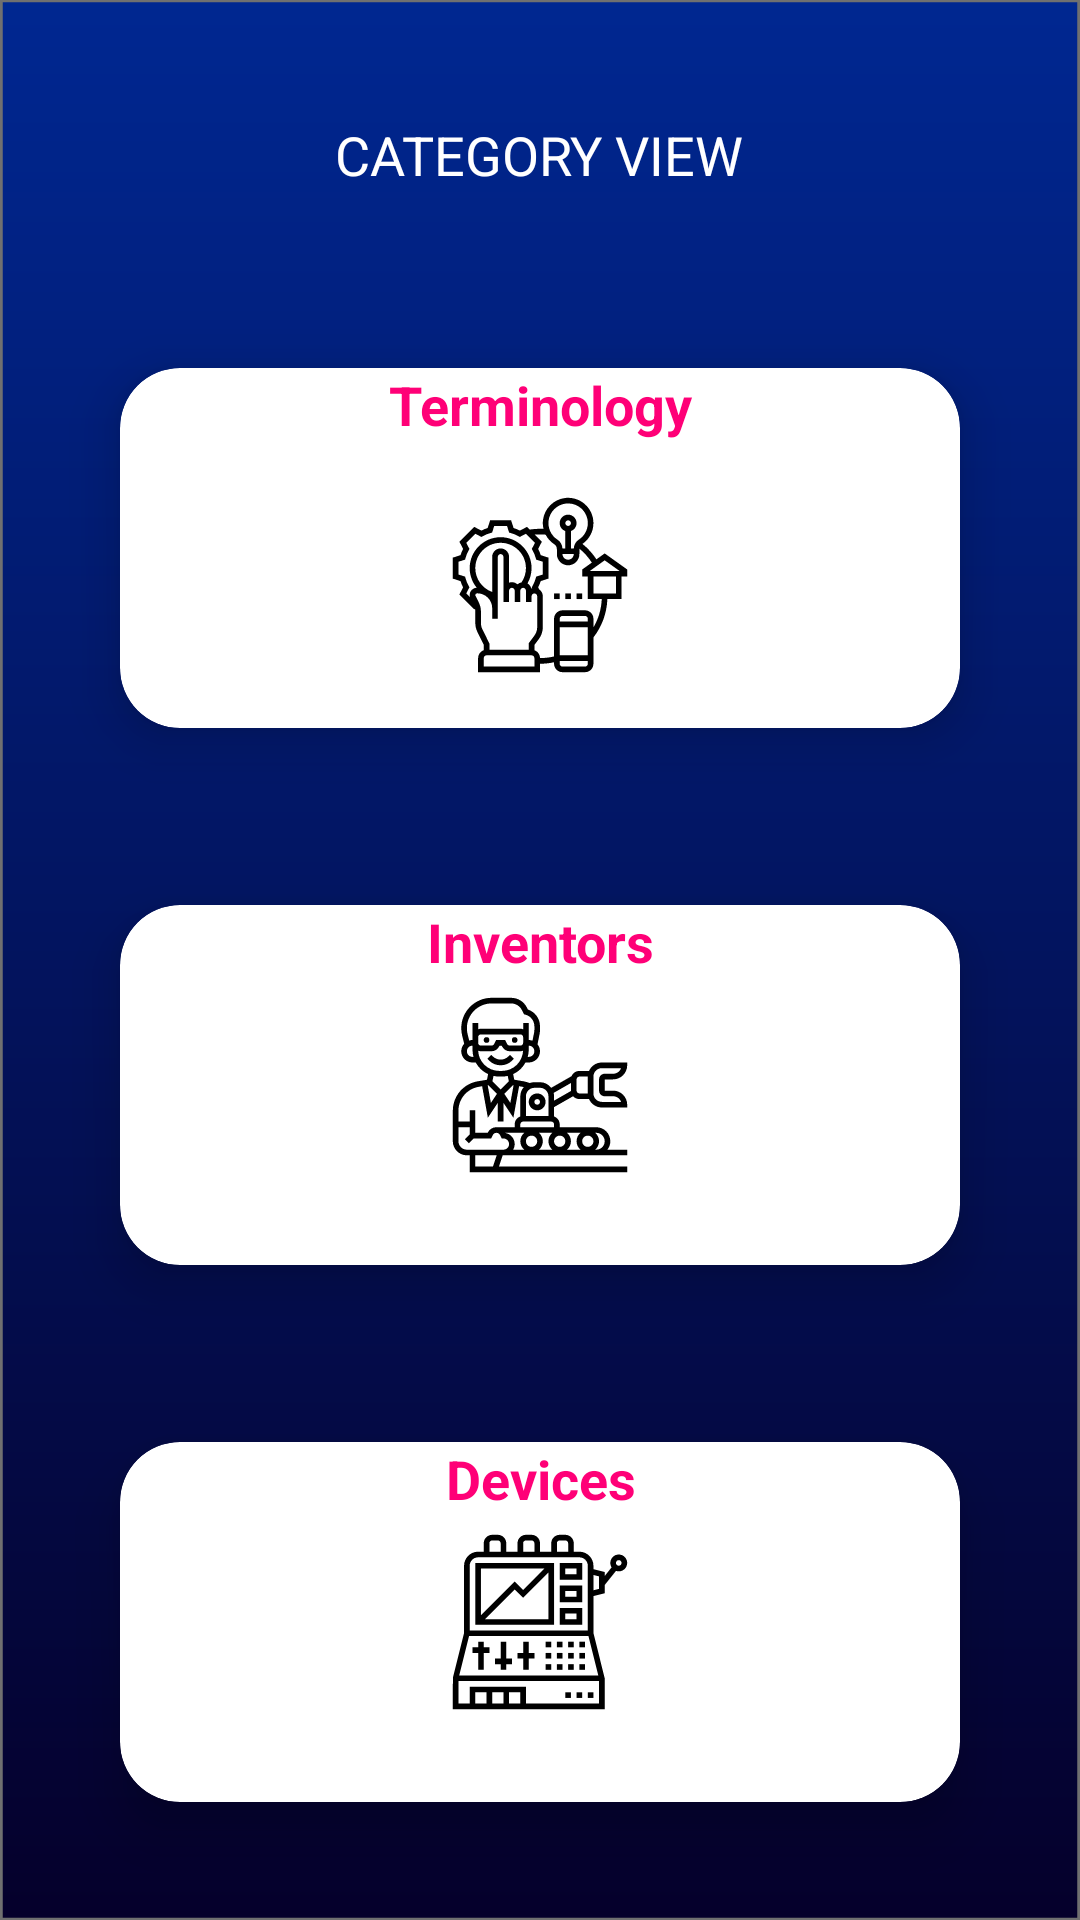

Screen size 1080*1920. Icon name, then its center in pixels as (x=x, y=y):
system: (x=540, y=585)
